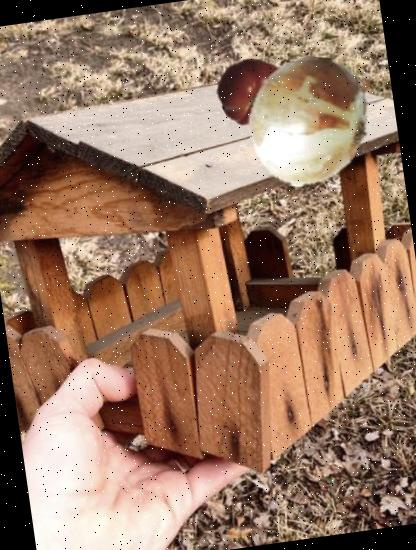Onion: (236, 48, 385, 196)
Tomato: (214, 51, 295, 132)
